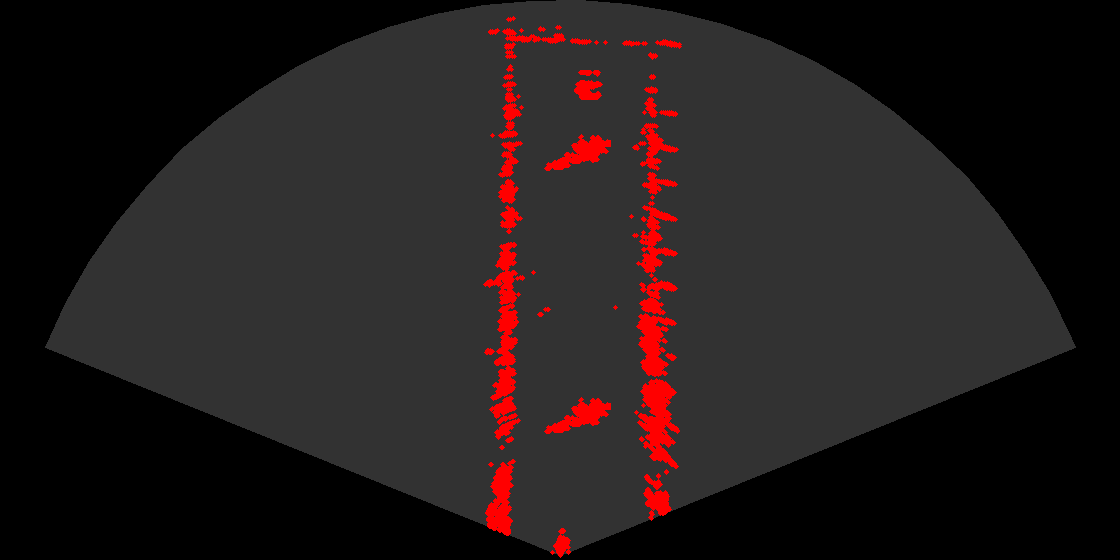ball: (554, 62, 614, 103)
frogman: (543, 391, 611, 438), (543, 128, 611, 175)
